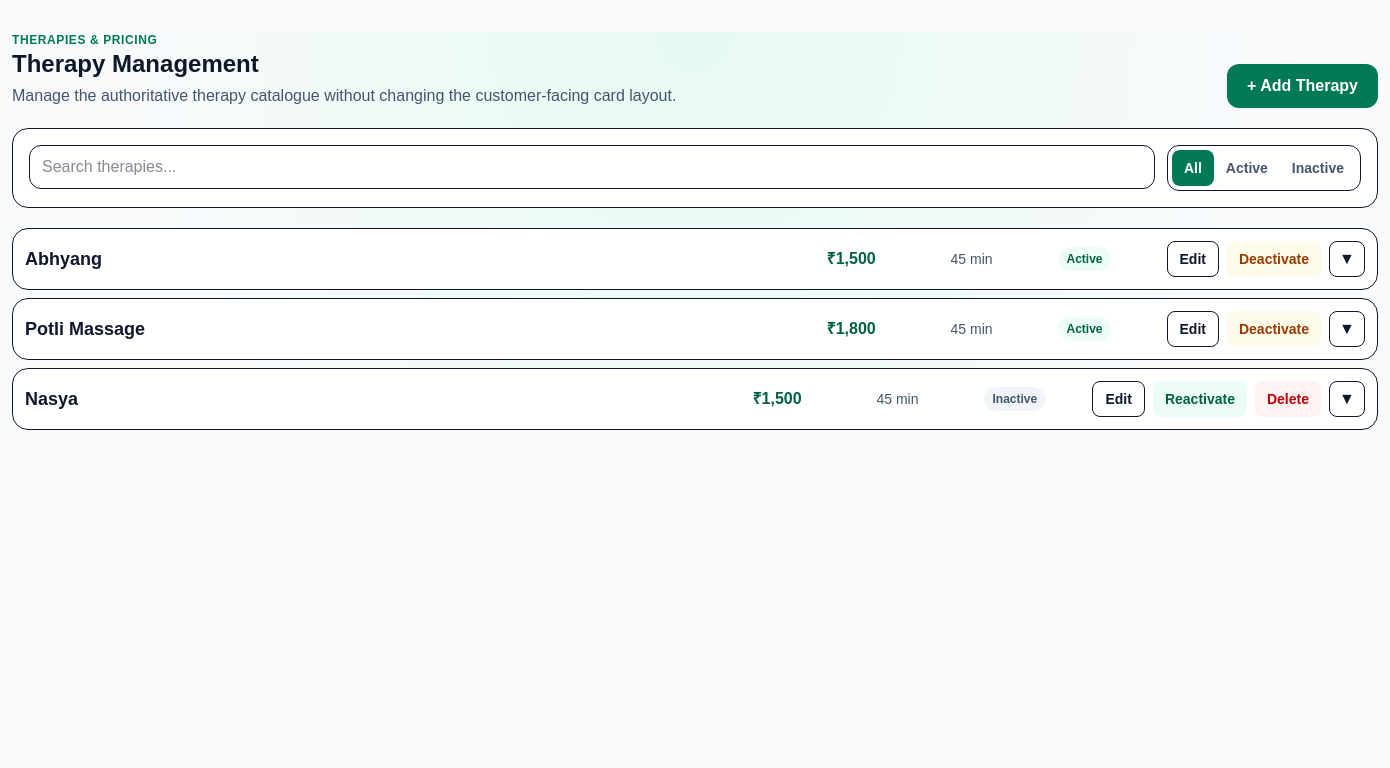
it: TherapyManagement › renders compact rows and expands only one therapy inline
This screenshot has width=1390, height=768.
Expected: the text "Abhyang" is shown, [25,249,102,269]
Expected: the text "Potli Massage" is shown, [25,319,145,339]
Step 1. Click the button named "Expand Abhyang" → (1347, 259), box [1329,241,1365,277]
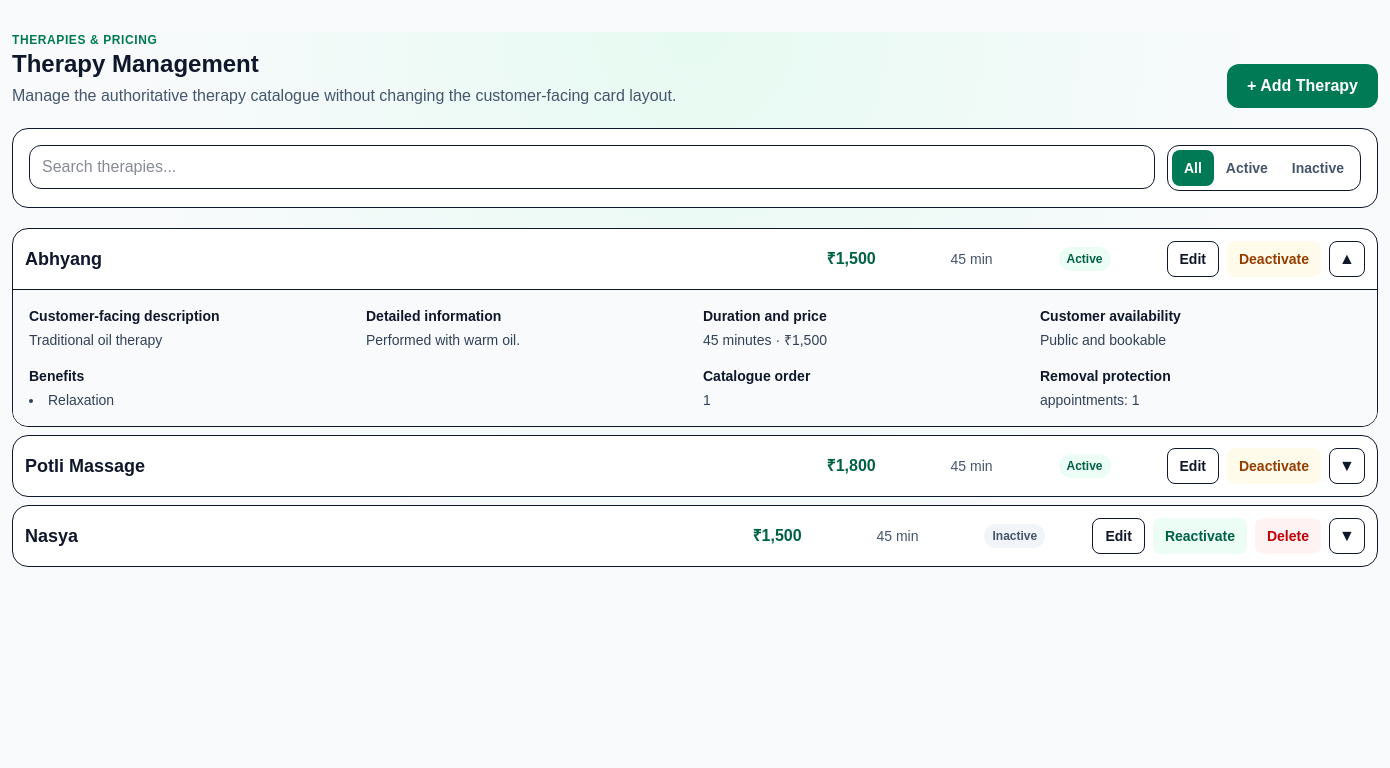
Now the text "Traditional oil therapy" is shown, box [29,332,162,348]
Step 2. Click the button named "Expand Potli Massage" → (1347, 466), box [1329,448,1365,484]
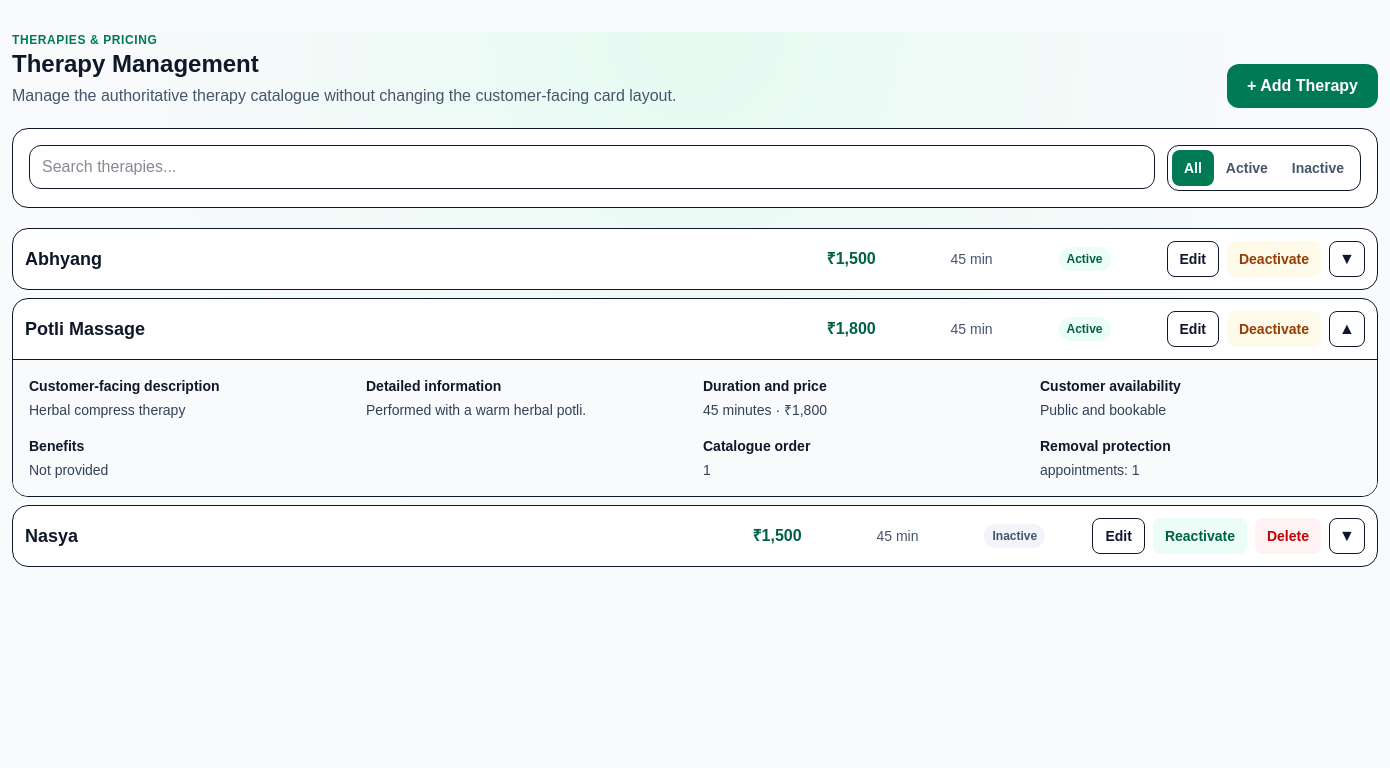
Now the text "Traditional oil therapy" is gone
Now the text "Herbal compress therapy" is shown, box [29,402,185,418]
